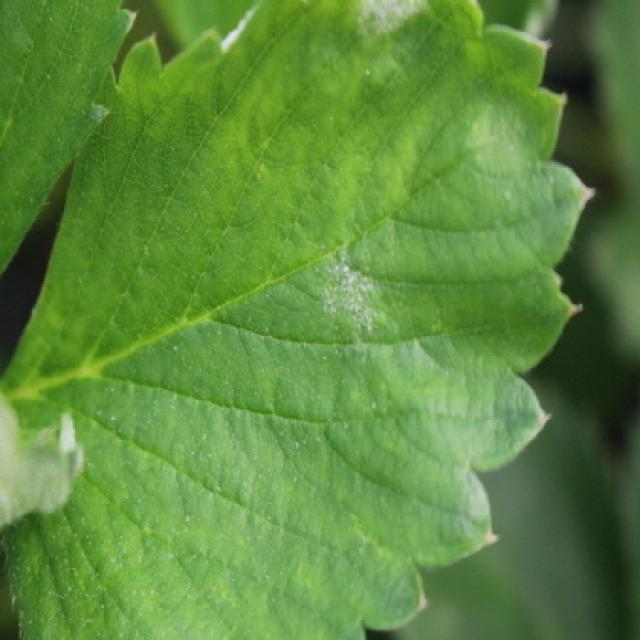Powdery Mildew Leaf: (0, 0, 596, 638)
